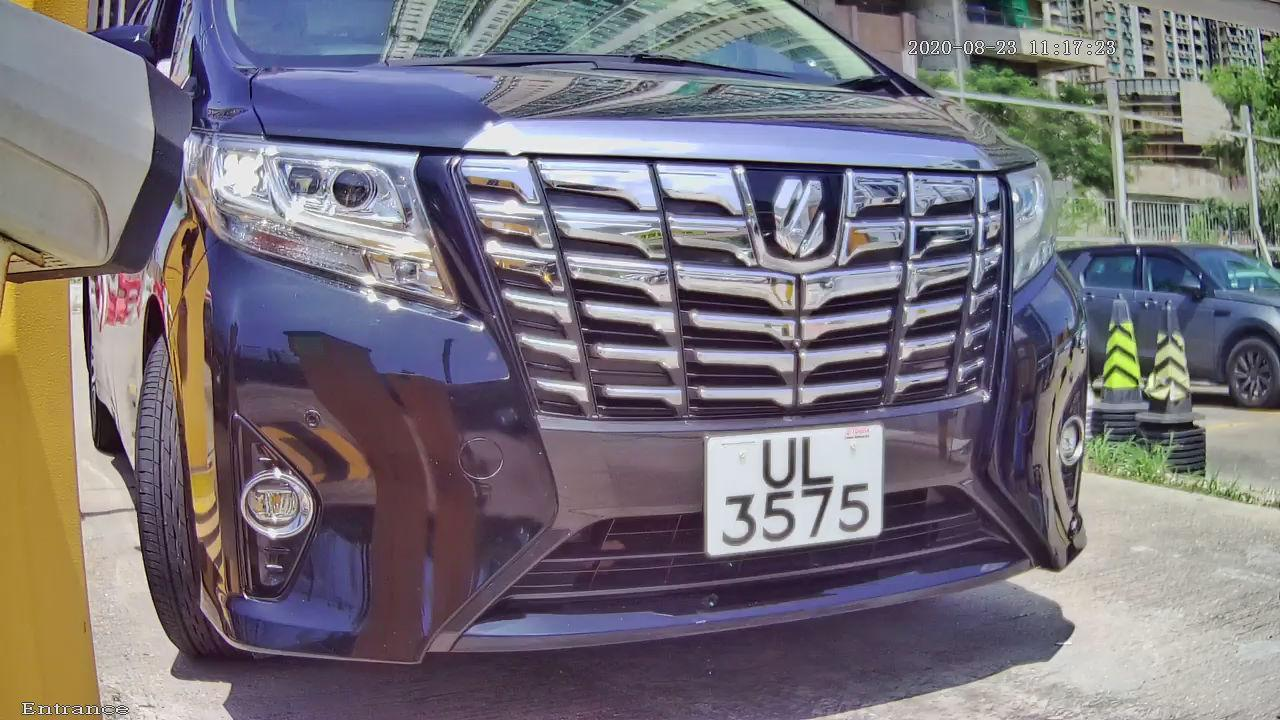Car: (81, 1, 1132, 720)
License Plate: (692, 399, 898, 569)
